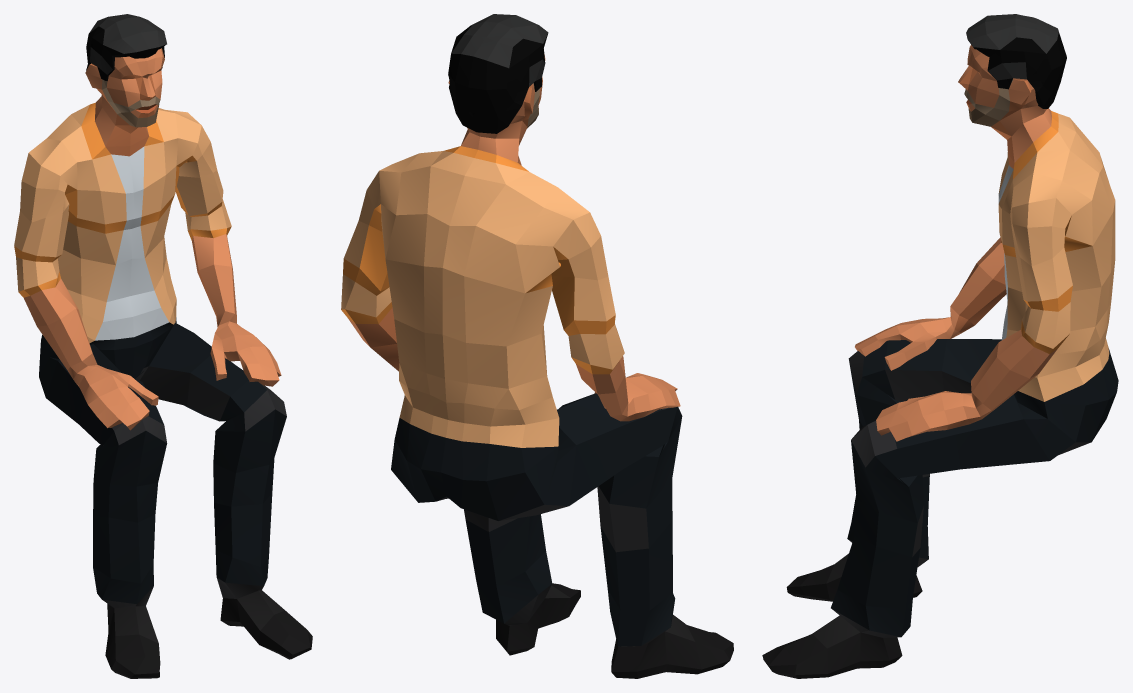
Rendered from npctest.fbx.
3 renders of one model, left to right at view 1: azimuth 30°, elevation 25°; view 2: azimuth 150°, elevation 25°; view 3: azimuth 270°, elevation 25°, orthographic. The views are drawn at different scales.
Parts seen in each view (by area): view 1: lpMaleG_sitting; view 2: lpMaleG_sitting; view 3: lpMaleG_sitting.
Boxes of the visible parts, x1,y1,x2,y2 form: lpMaleG_sitting: (14,14,312,678); lpMaleG_sitting: (341,14,733,678); lpMaleG_sitting: (762,14,1118,678).
Bounding box in the file's own units: 70.76 × 178 × 92.52.
Materials: 1 (1 with a texture image).
